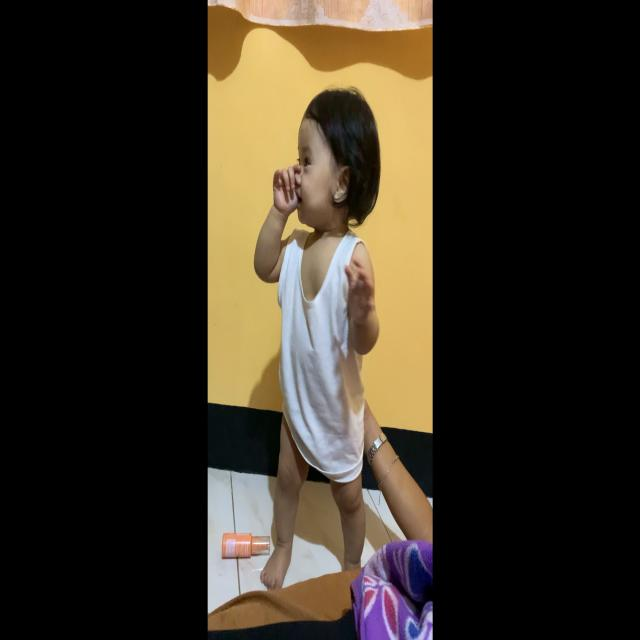child: (254, 85, 382, 593)
